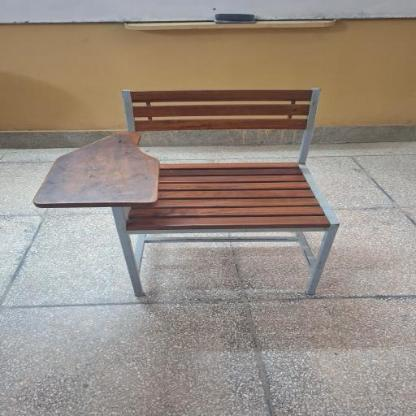chair: (32, 78, 354, 308)
